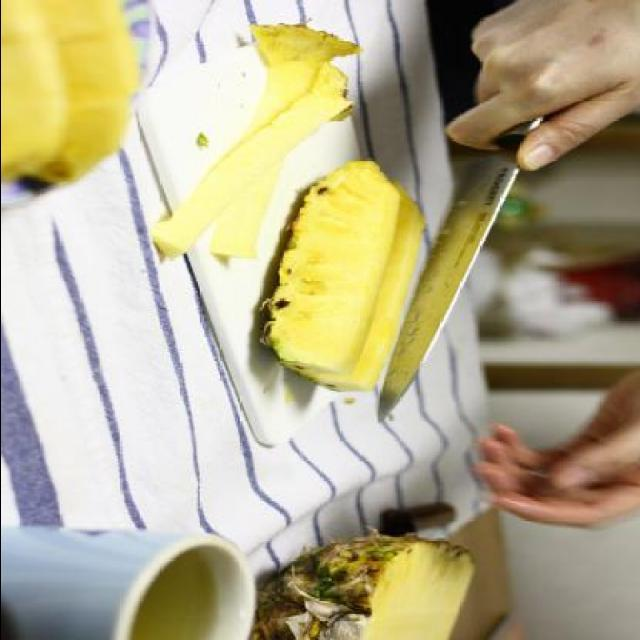Pineapple: (144, 60, 356, 262), (258, 156, 434, 398), (234, 22, 371, 264), (242, 527, 484, 640)
